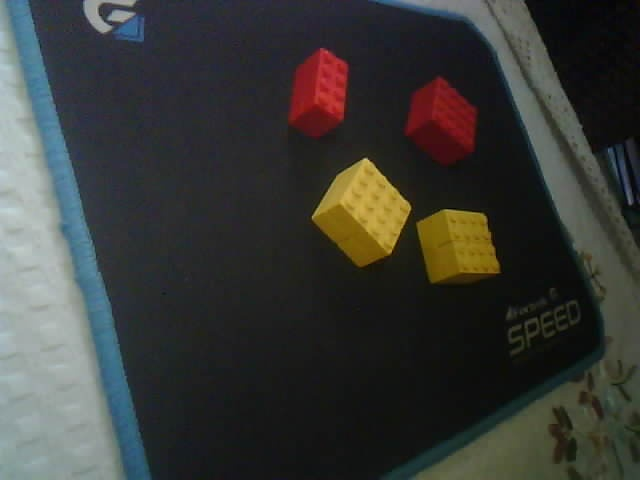lego: (309, 157, 413, 270), (415, 207, 502, 287), (403, 76, 478, 166), (287, 46, 349, 139)
